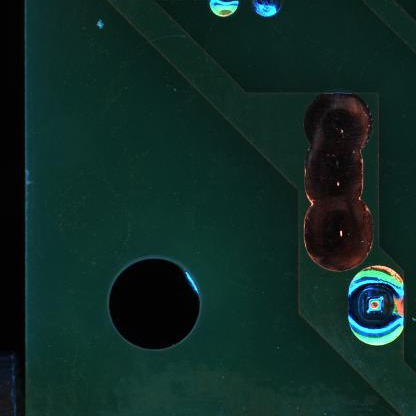spot: (349, 265, 405, 348)
